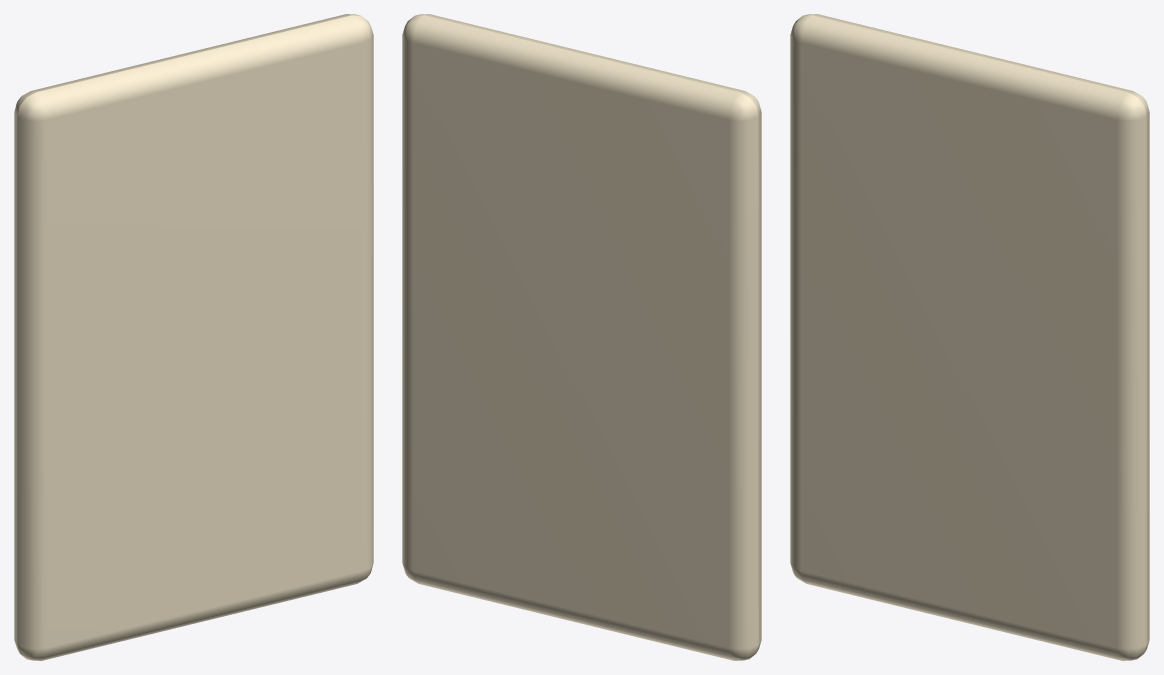
File: grabber_card.glb
3 renders of one model, left to right at view 1: azimuth 30°, elevation 25°; view 2: azimuth 150°, elevation 25°; view 3: azimuth 330°, elevation 25°, orthographic.
Parts seen in each view (by area): view 1: grabber_card / material batches; view 2: grabber_card / material batches; view 3: grabber_card / material batches.
Boxes of the visible parts, x1=… form: grabber_card / material batches: x1=14, y1=14, x2=373, y2=660; grabber_card / material batches: x1=402, y1=14, x2=761, y2=660; grabber_card / material batches: x1=790, y1=14, x2=1149, y2=660.
Bounding box in the file's own units: 0.15 × 0.23 × 0.016.
